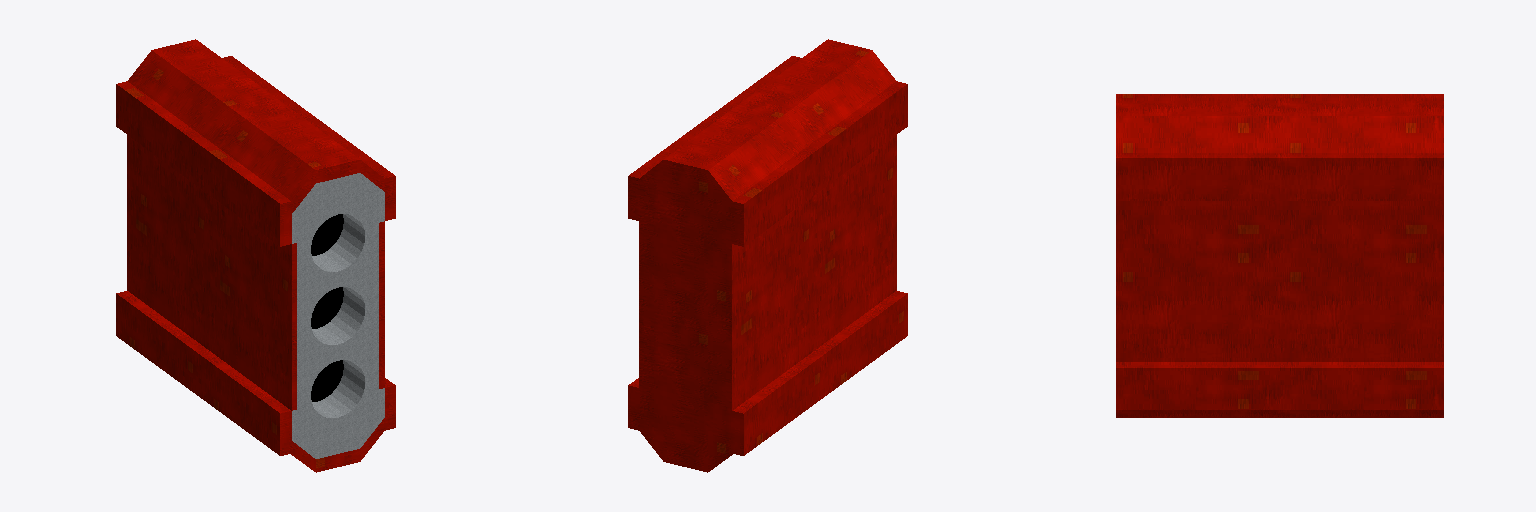
3 renders of one model, left to right at view 1: azimuth 30°, elevation 25°; view 2: azimuth 150°, elevation 25°; view 3: azimuth 270°, elevation 25°, orthographic.
Parts seen in each view (by area): view 1: pow_bloc_plane-SKP--_Metal_Aluminum_Anodized_, pow_bloc_plane-SKP--_Metal_Rough_, pow_bloc_plane-SKP--_Color_M09_; view 2: pow_bloc_plane-SKP--_Metal_Aluminum_Anodized_; view 3: pow_bloc_plane-SKP--_Metal_Aluminum_Anodized_.
Boxes of the visible parts, <box> form: pow_bloc_plane-SKP--_Metal_Aluminum_Anodized_: <box>116,39,395,472</box>; pow_bloc_plane-SKP--_Metal_Rough_: <box>292,173,384,458</box>; pow_bloc_plane-SKP--_Color_M09_: <box>311,214,343,401</box>; pow_bloc_plane-SKP--_Metal_Aluminum_Anodized_: <box>628,39,907,472</box>; pow_bloc_plane-SKP--_Metal_Aluminum_Anodized_: <box>1116,94,1443,417</box>.
Bounding box in the file's own units: 0.2975 × 0.745 × 0.7333.
Materials: 3 (3 with a texture image).